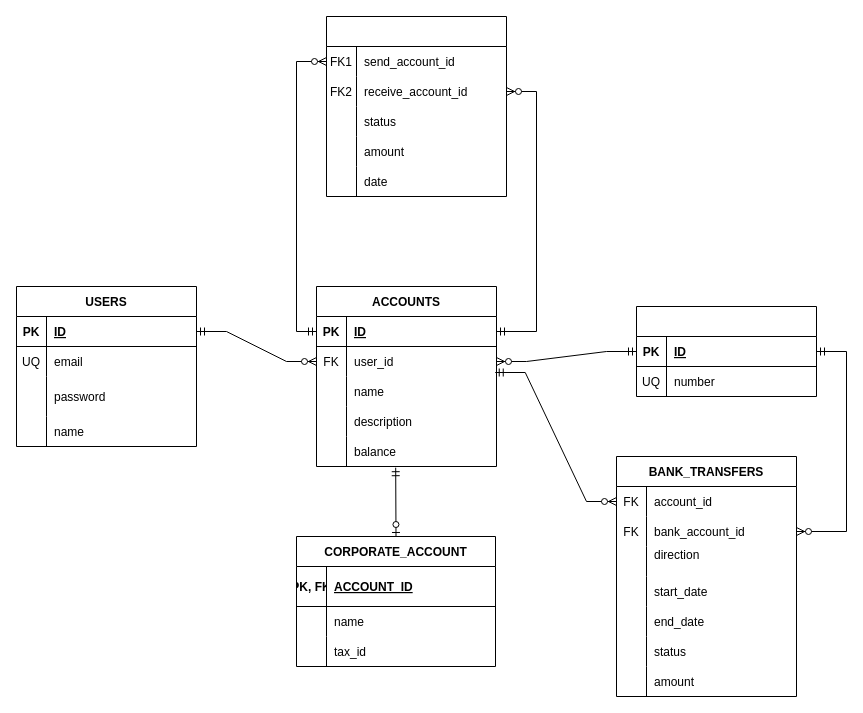
Image size: 863x713. Some labels were removed from this diagram. The shapes that lost their labels are listed below. From the top down, each one's box as (x1, y1, x2, y2) in pixels, then its label:
(326, 16, 506, 196): TRANSFERS
(636, 306, 816, 396): BANK_ACCOUNTS
